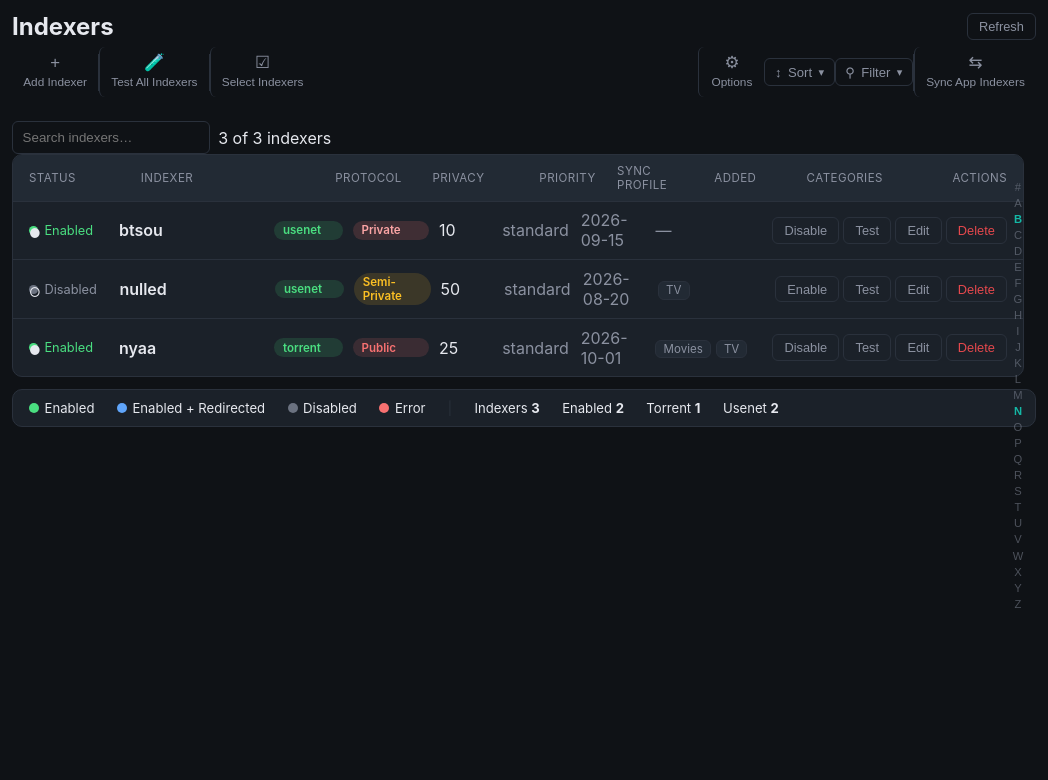
IndexerHubPage — toolbar behaviors › the A-Z jump filters to the letter and clicking again clears it
Expected: the element with test id "idx-row-1" is shown, left=13, top=319, right=1023, bottom=376
Click the button with test id "idx-az-N": (1018, 412) left=1008, top=404, right=1028, bottom=420
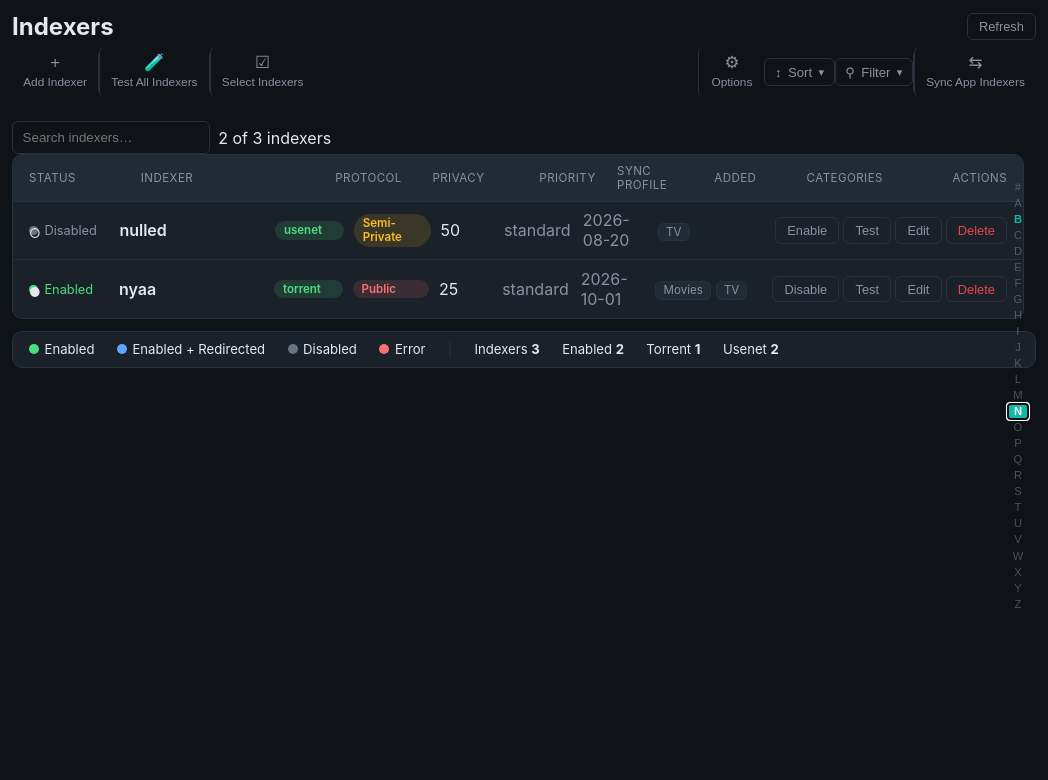
Expected: the element with test id "idx-row-1" is shown, left=13, top=260, right=1023, bottom=318
Expected: the element with test id "idx-row-2" is gone
Click the button with test id "idx-az-N": (1018, 412) left=1008, top=404, right=1028, bottom=420
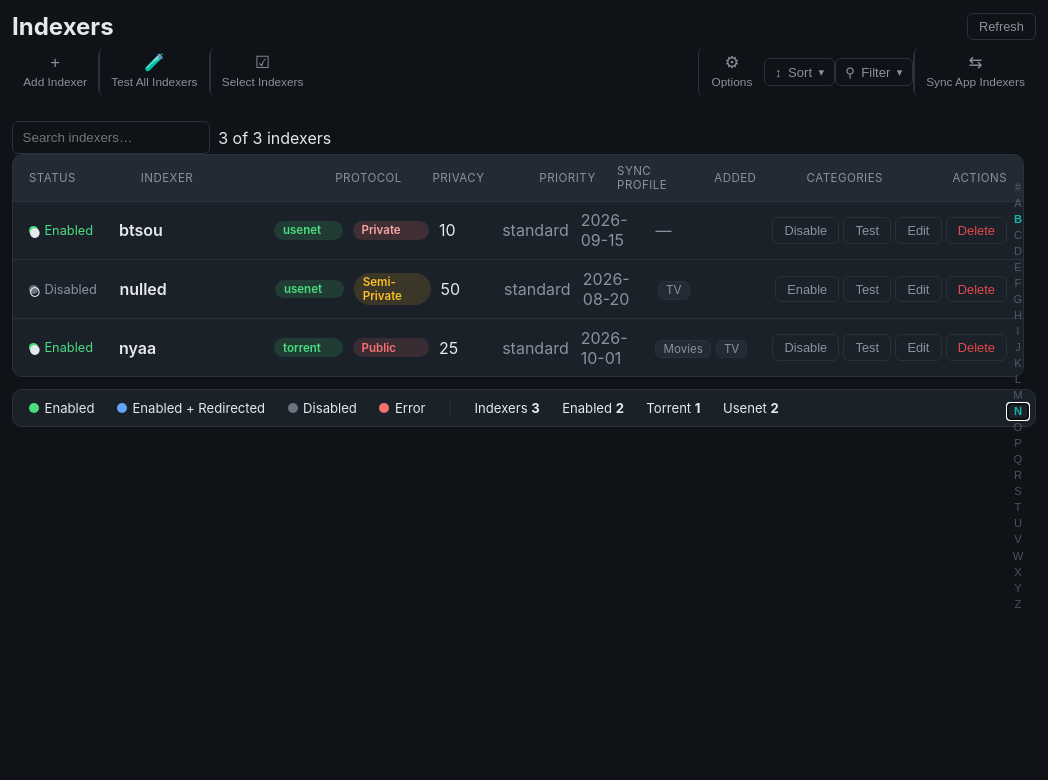
Expected: the element with test id "idx-row-2" is shown, left=13, top=202, right=1023, bottom=260
